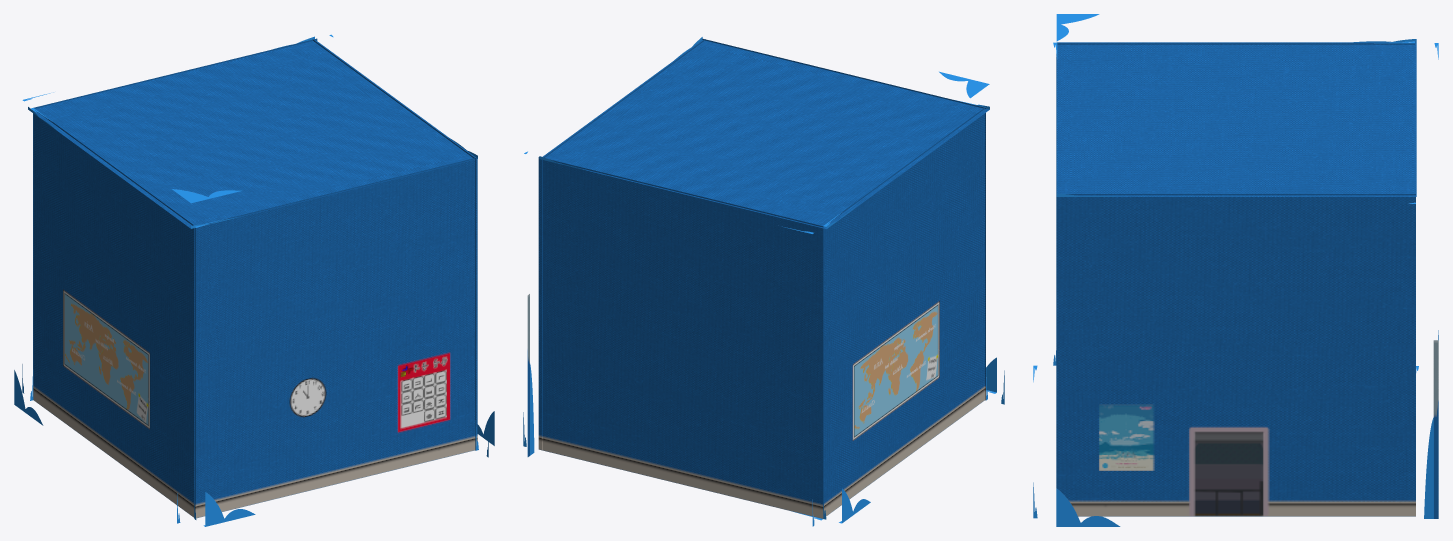
The model's file is ov_room.FBX.
3 renders of one model, left to right at view 1: azimuth 30°, elevation 25°; view 2: azimuth 150°, elevation 25°; view 3: azimuth 270°, elevation 25°, orthographic. The views are drawn at different scales.
Visible parts, largest first — view 1: wall_2; view 2: wall_2; view 3: wall_2.
Part boxes in pixels (box(x1,y1,x2,y2)): wall_2: box(14, 34, 494, 526); wall_2: box(523, 37, 1004, 526); wall_2: box(1033, 14, 1438, 526).
Size of the model in its own units: 1518 by 1446 by 1520.
